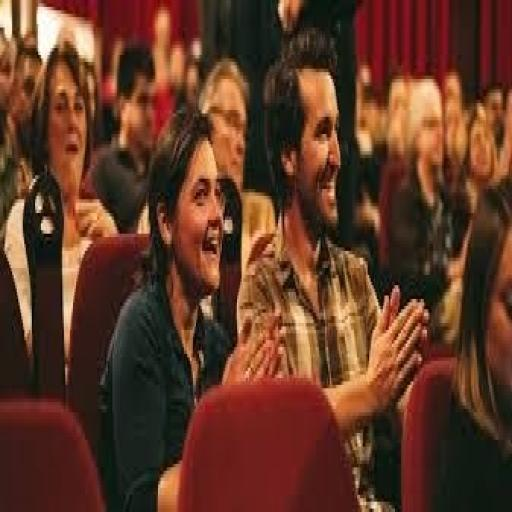clapping: (2, 7, 510, 505)
